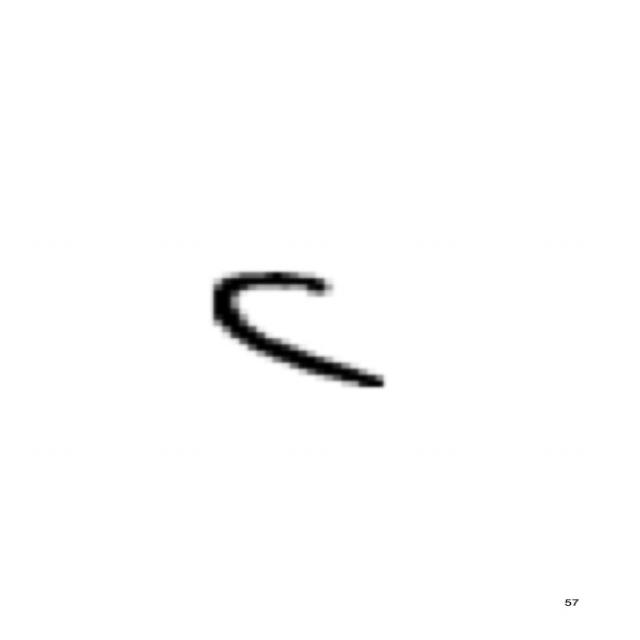2 -two-: (194, 261, 408, 408)
